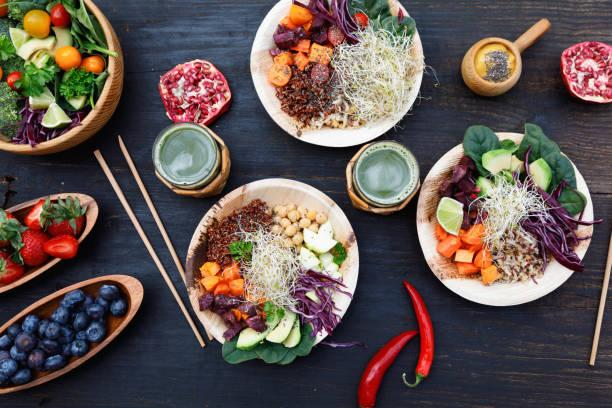Braised Crucian Carp: (185, 174, 361, 356), (416, 133, 591, 306), (249, 3, 425, 152), (1, 0, 123, 154)
